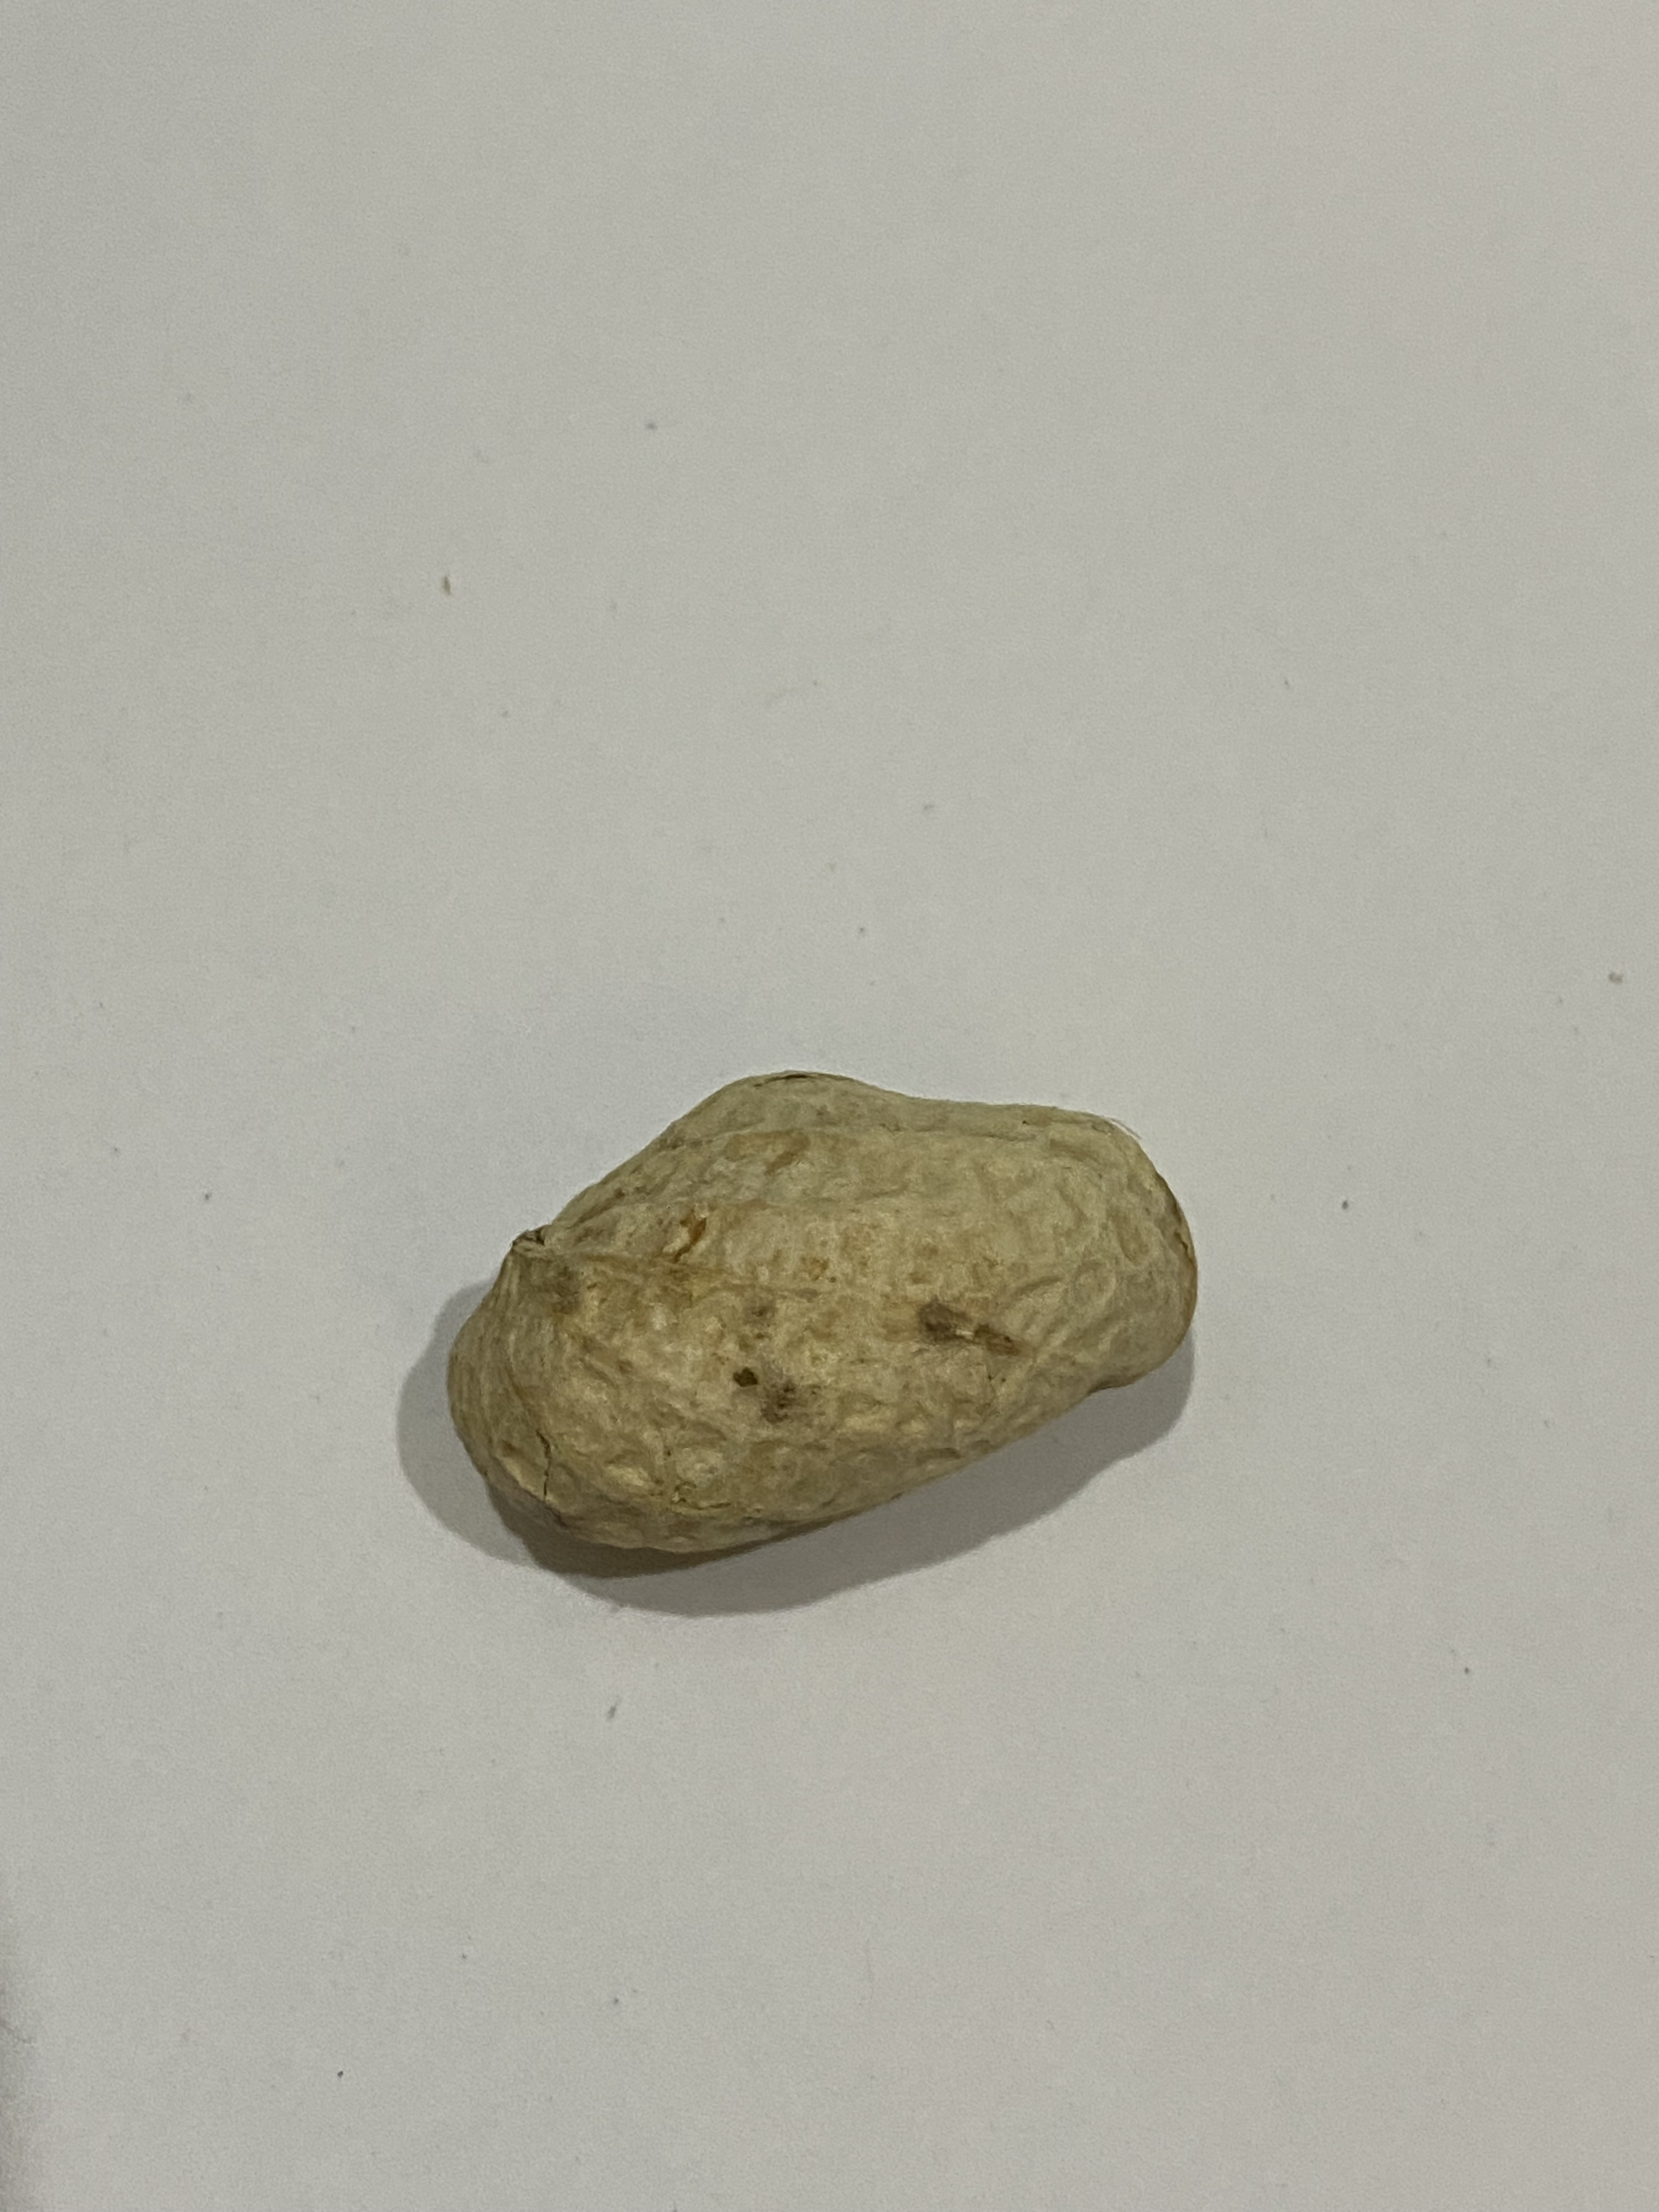kacang2: (410, 1069, 1218, 1566)
